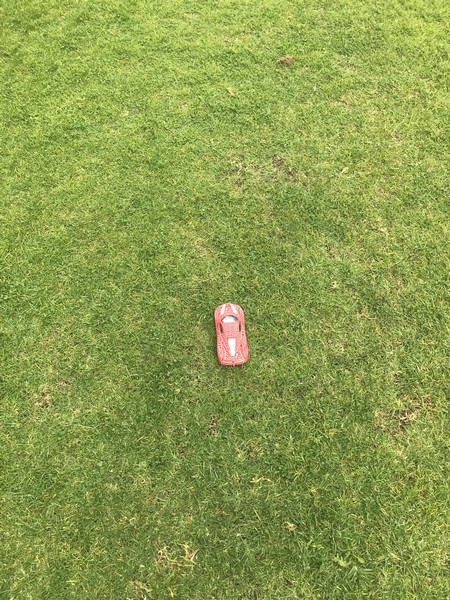RC: (212, 302, 251, 366)
